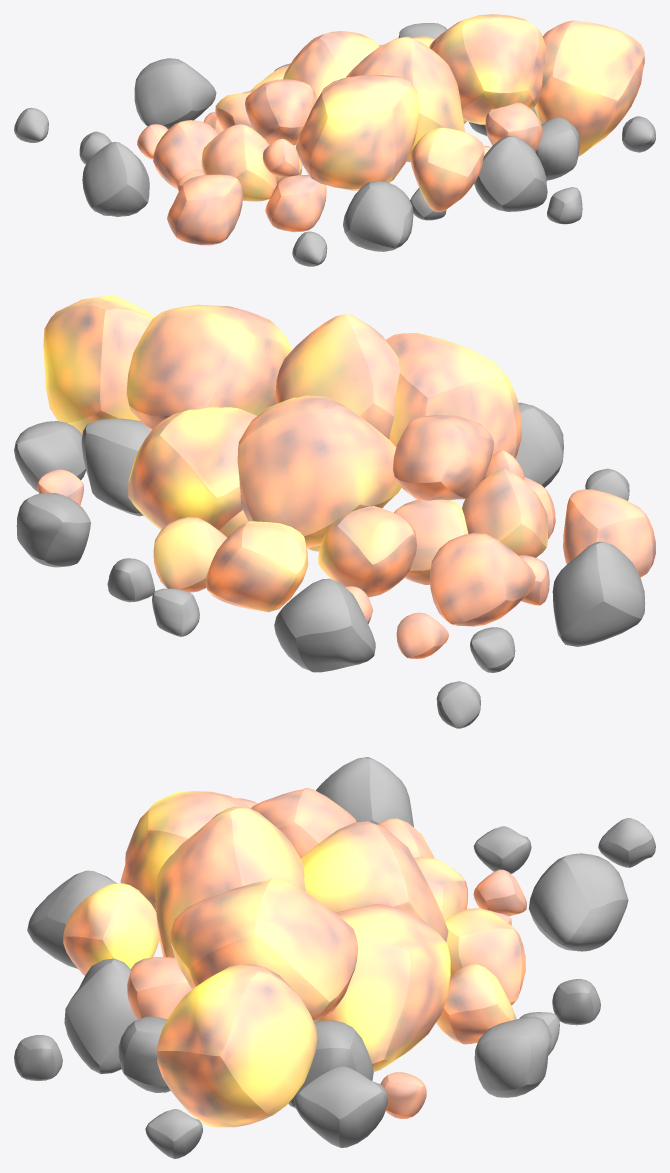
Rendered from Coals.fbx.
3 renders of one model, top to bottom at view 1: azimuth 30°, elevation 25°; view 2: azimuth 150°, elevation 25°; view 3: azimuth 270°, elevation 25°, orthographic. The views are drawn at different scales.
Parts seen in each view (by area): view 1: coal12, coal7, coal9, coal11, coal18, coal13, coal38, coal35, coal37, coal34, coal14, coal16 (+15 smaller); view 2: coal10, coal9, coal8, coal7, coal12, coal11, coal15, coal37, coal32, coal16, coal38, coal17 (+16 smaller); view 3: coal7, coal9, coal8, coal11, coal10, coal38, coal18, coal12, coal35, coal2, coal40, coal32 (+16 smaller).
Boxes of the visible parts, x1,y1,x2,y2 form: coal12: (296,75,419,190); coal7: (534,20,644,156); coal9: (429,14,545,124); coal11: (346,36,464,162); coal18: (410,127,484,211); coal13: (167,174,242,245); coal38: (134,58,216,129); coal35: (474,136,547,211); coal37: (82,141,149,216); coal34: (343,180,413,251); coal14: (201,124,276,201); coal16: (245,79,317,145); coal10: (237,395,401,547); coal9: (126,304,291,430); coal8: (128,407,256,530); coal7: (43,295,154,434); coal12: (386,333,521,499); coal11: (275,314,400,438); coal15: (430,533,535,626); coal37: (552,541,645,646); coal32: (206,521,308,612); coal16: (393,414,494,500); coal38: (274,578,375,672); coal17: (318,506,416,597); coal7: (156,964,317,1127); coal9: (170,878,358,1021); coal8: (314,903,450,1071); coal11: (155,806,305,957); coal10: (301,821,448,941); coal38: (528,853,628,951); coal18: (63,883,159,975); coal12: (120,791,253,911); coal35: (64,958,136,1073); coal2: (294,1066,387,1147); coal40: (474,1016,551,1097); coal32: (444,908,525,1005).
Size of the model in its own units: 36.08 by 10.43 by 28.94.
